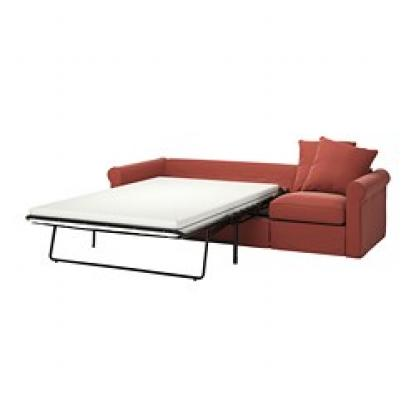Sofa: (18, 133, 390, 281)
